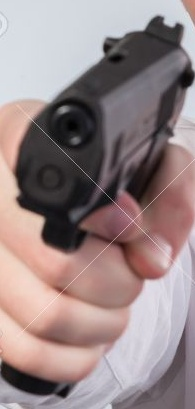pistol: (8, 12, 195, 255)
